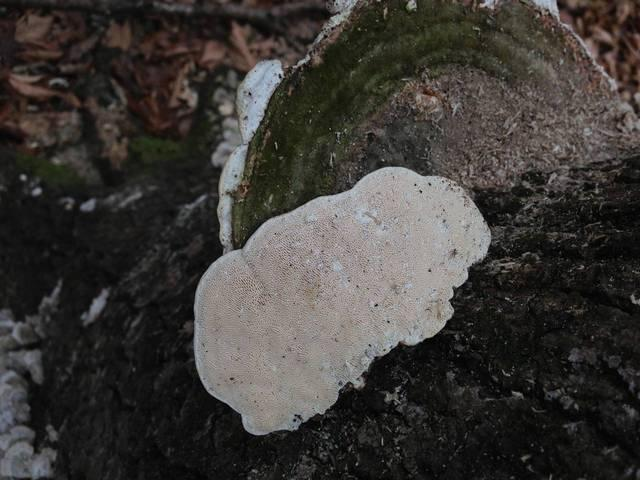Non-edible Mushroom: (191, 164, 492, 436)
